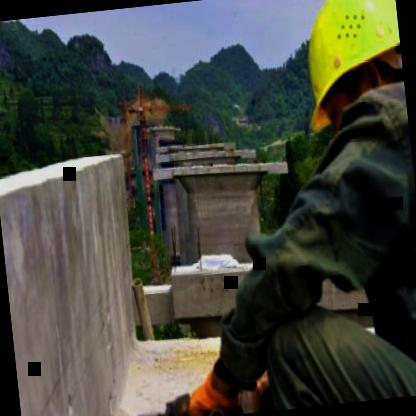helmet: (284, 0, 411, 161)
